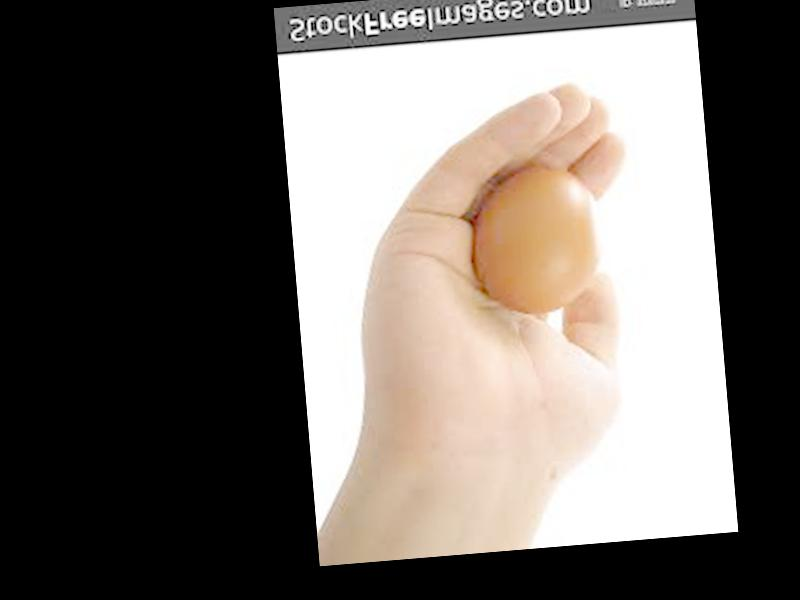Eggs: (469, 152, 604, 319)
